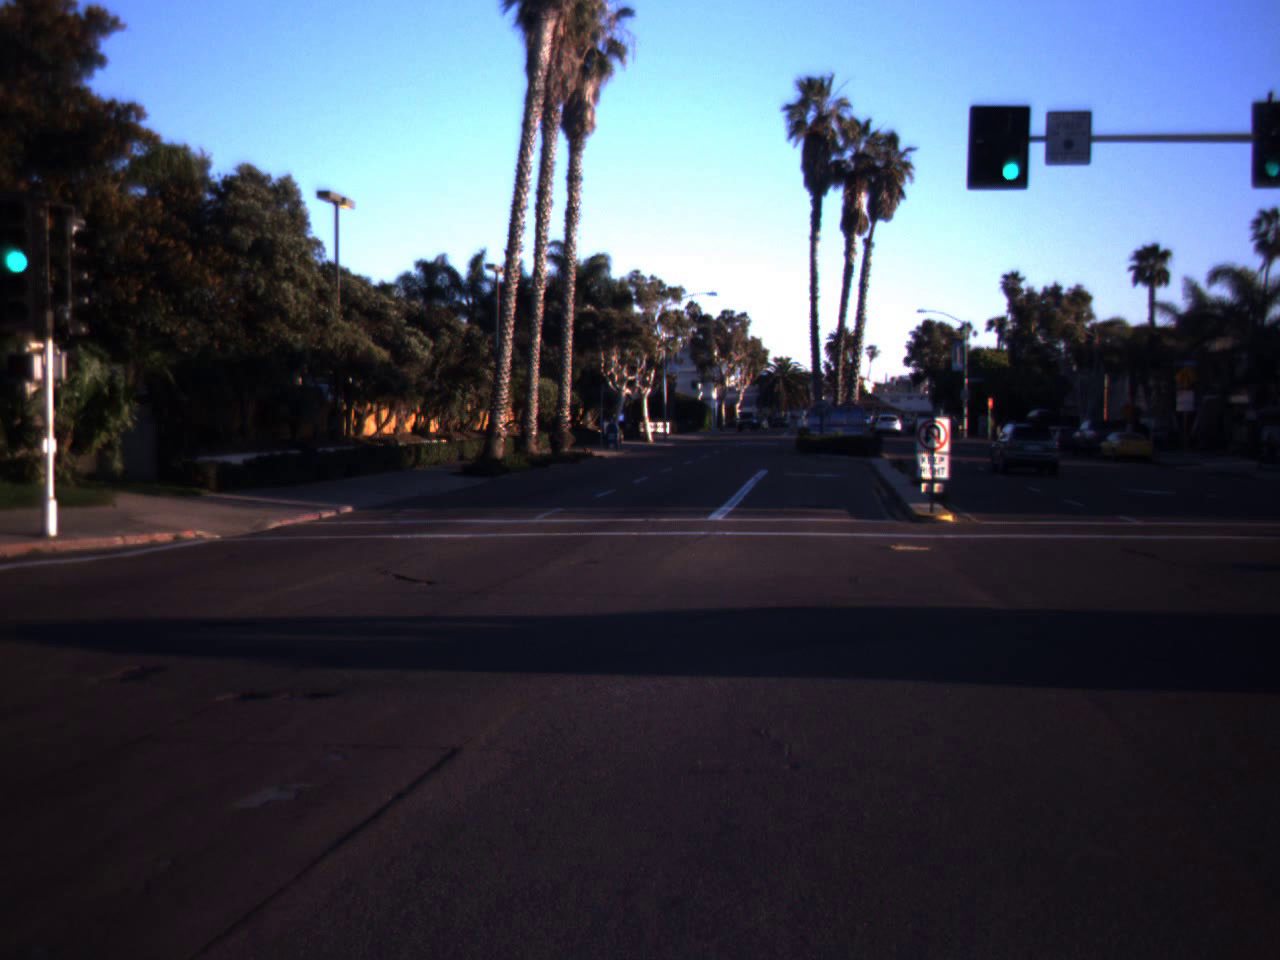go: (0, 182, 46, 282), (988, 111, 1033, 186)
